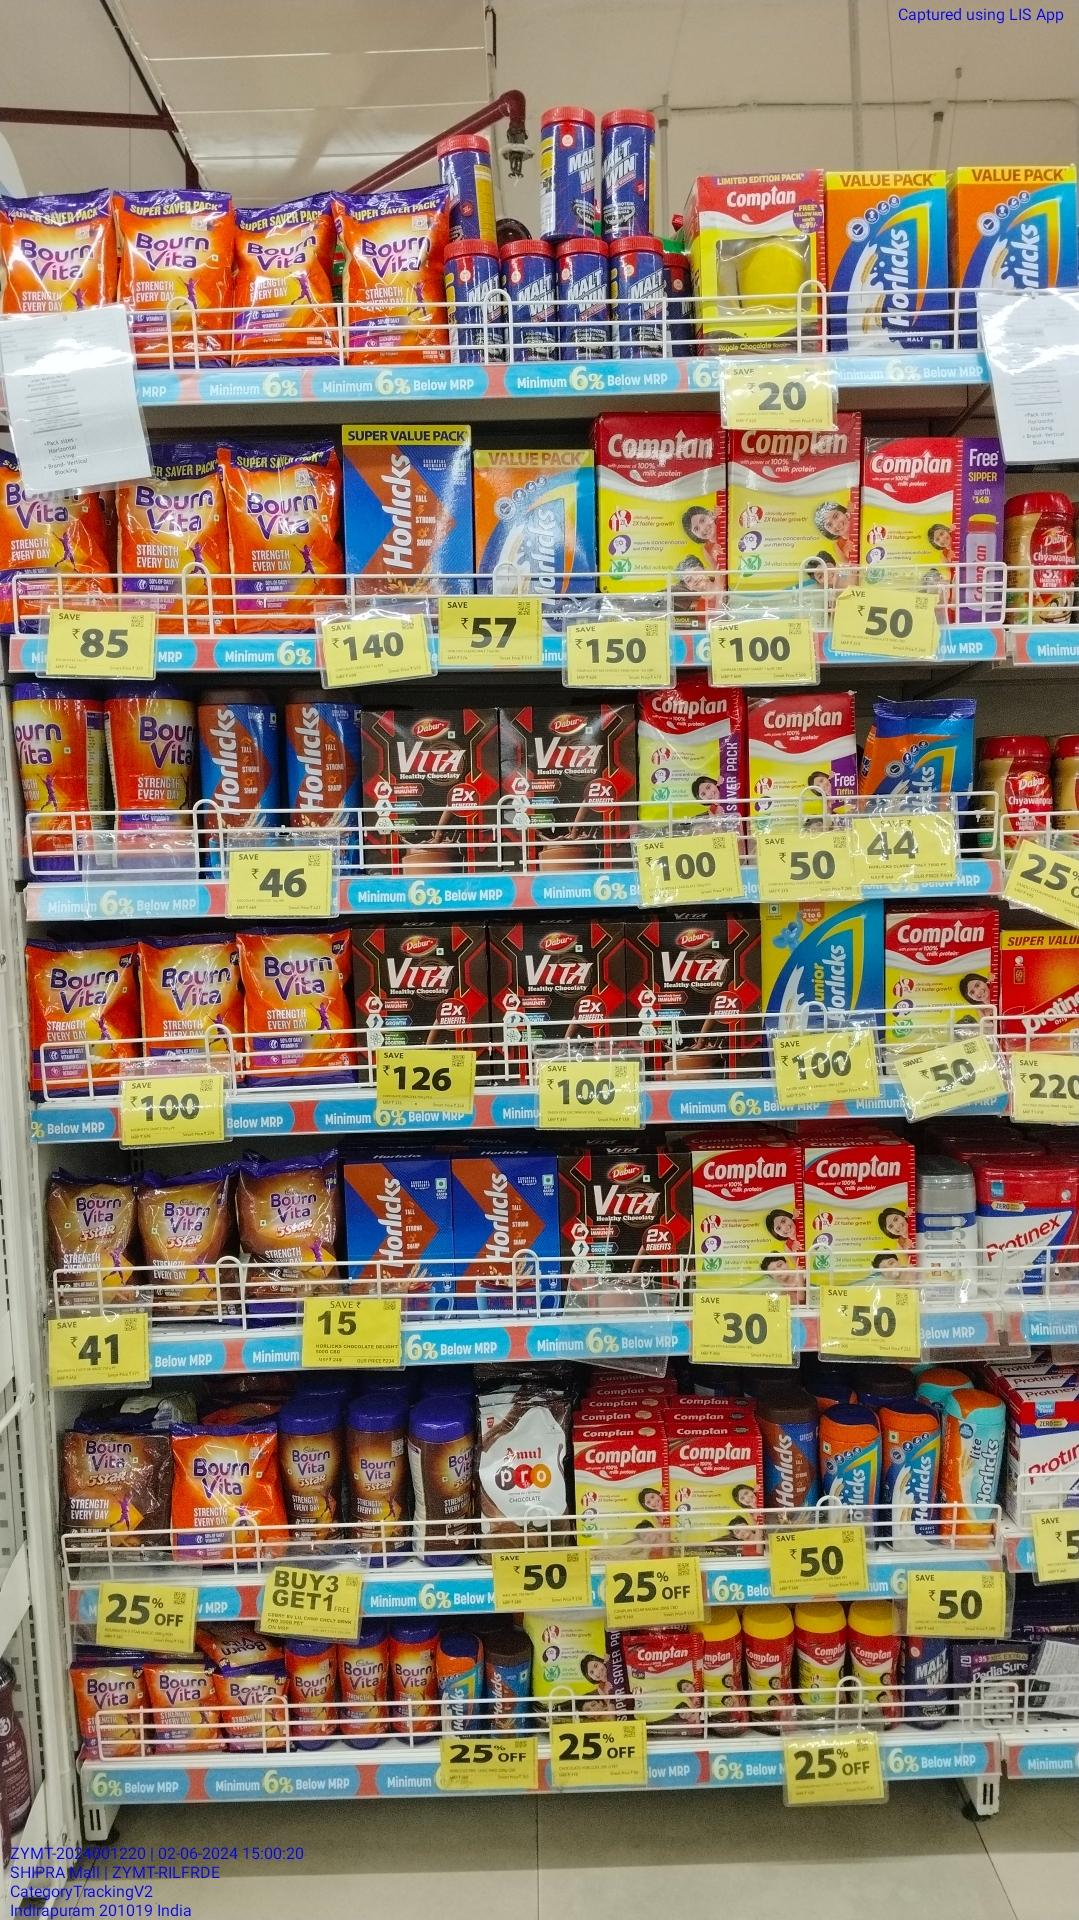HORLICKS_LITE_REGULAR_MALT_500_GM_JAR: (946, 1390, 992, 1547)
HORLICK_CLASSIC_MALT_500_G_JAR: (884, 1406, 938, 1547), (820, 1411, 880, 1532)
HORLICK_CLASSIC_MALT_500_G_PACK: (439, 1635, 480, 1739)
PROTINEX_CHOCOLATE_400_G_JAR: (983, 1160, 1079, 1294)
